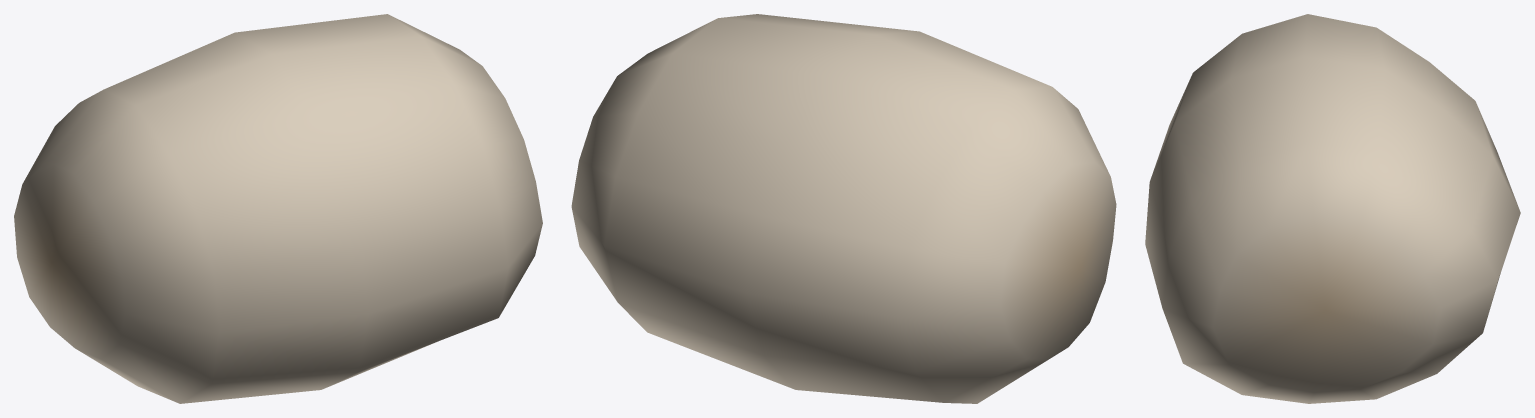
Rendered from wool.glb.
The picture shows the model from 3 angles, left to right: view 1: azimuth 30°, elevation 25°; view 2: azimuth 150°, elevation 25°; view 3: azimuth 270°, elevation 25°; orthographic projection. The views are drawn at different scales.
Parts seen in each view (by area): view 1: Curled fleece; view 2: Curled fleece; view 3: Curled fleece.
Boxes of the visible parts, x1=… form: Curled fleece: x1=14, y1=14, x2=542, y2=403; Curled fleece: x1=571, y1=14, x2=1116, y2=403; Curled fleece: x1=1145, y1=14, x2=1520, y2=403.
Size of the model in its own units: 0.266 by 0.181 by 0.2164.
